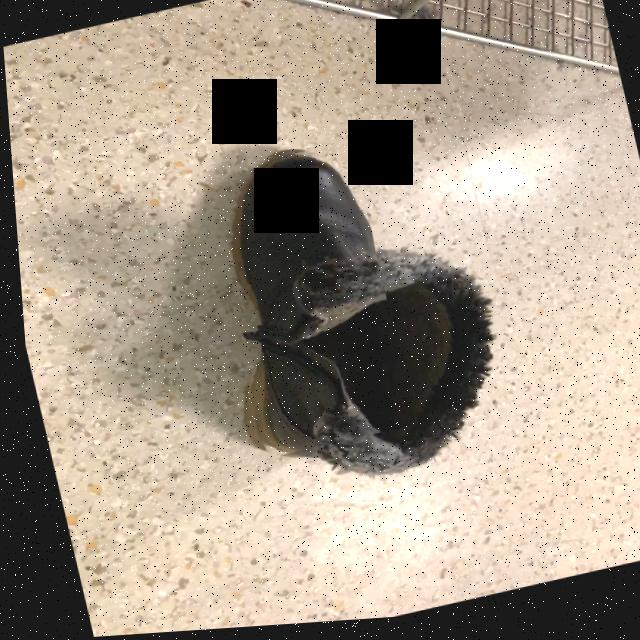shoe: (240, 153, 373, 456)
